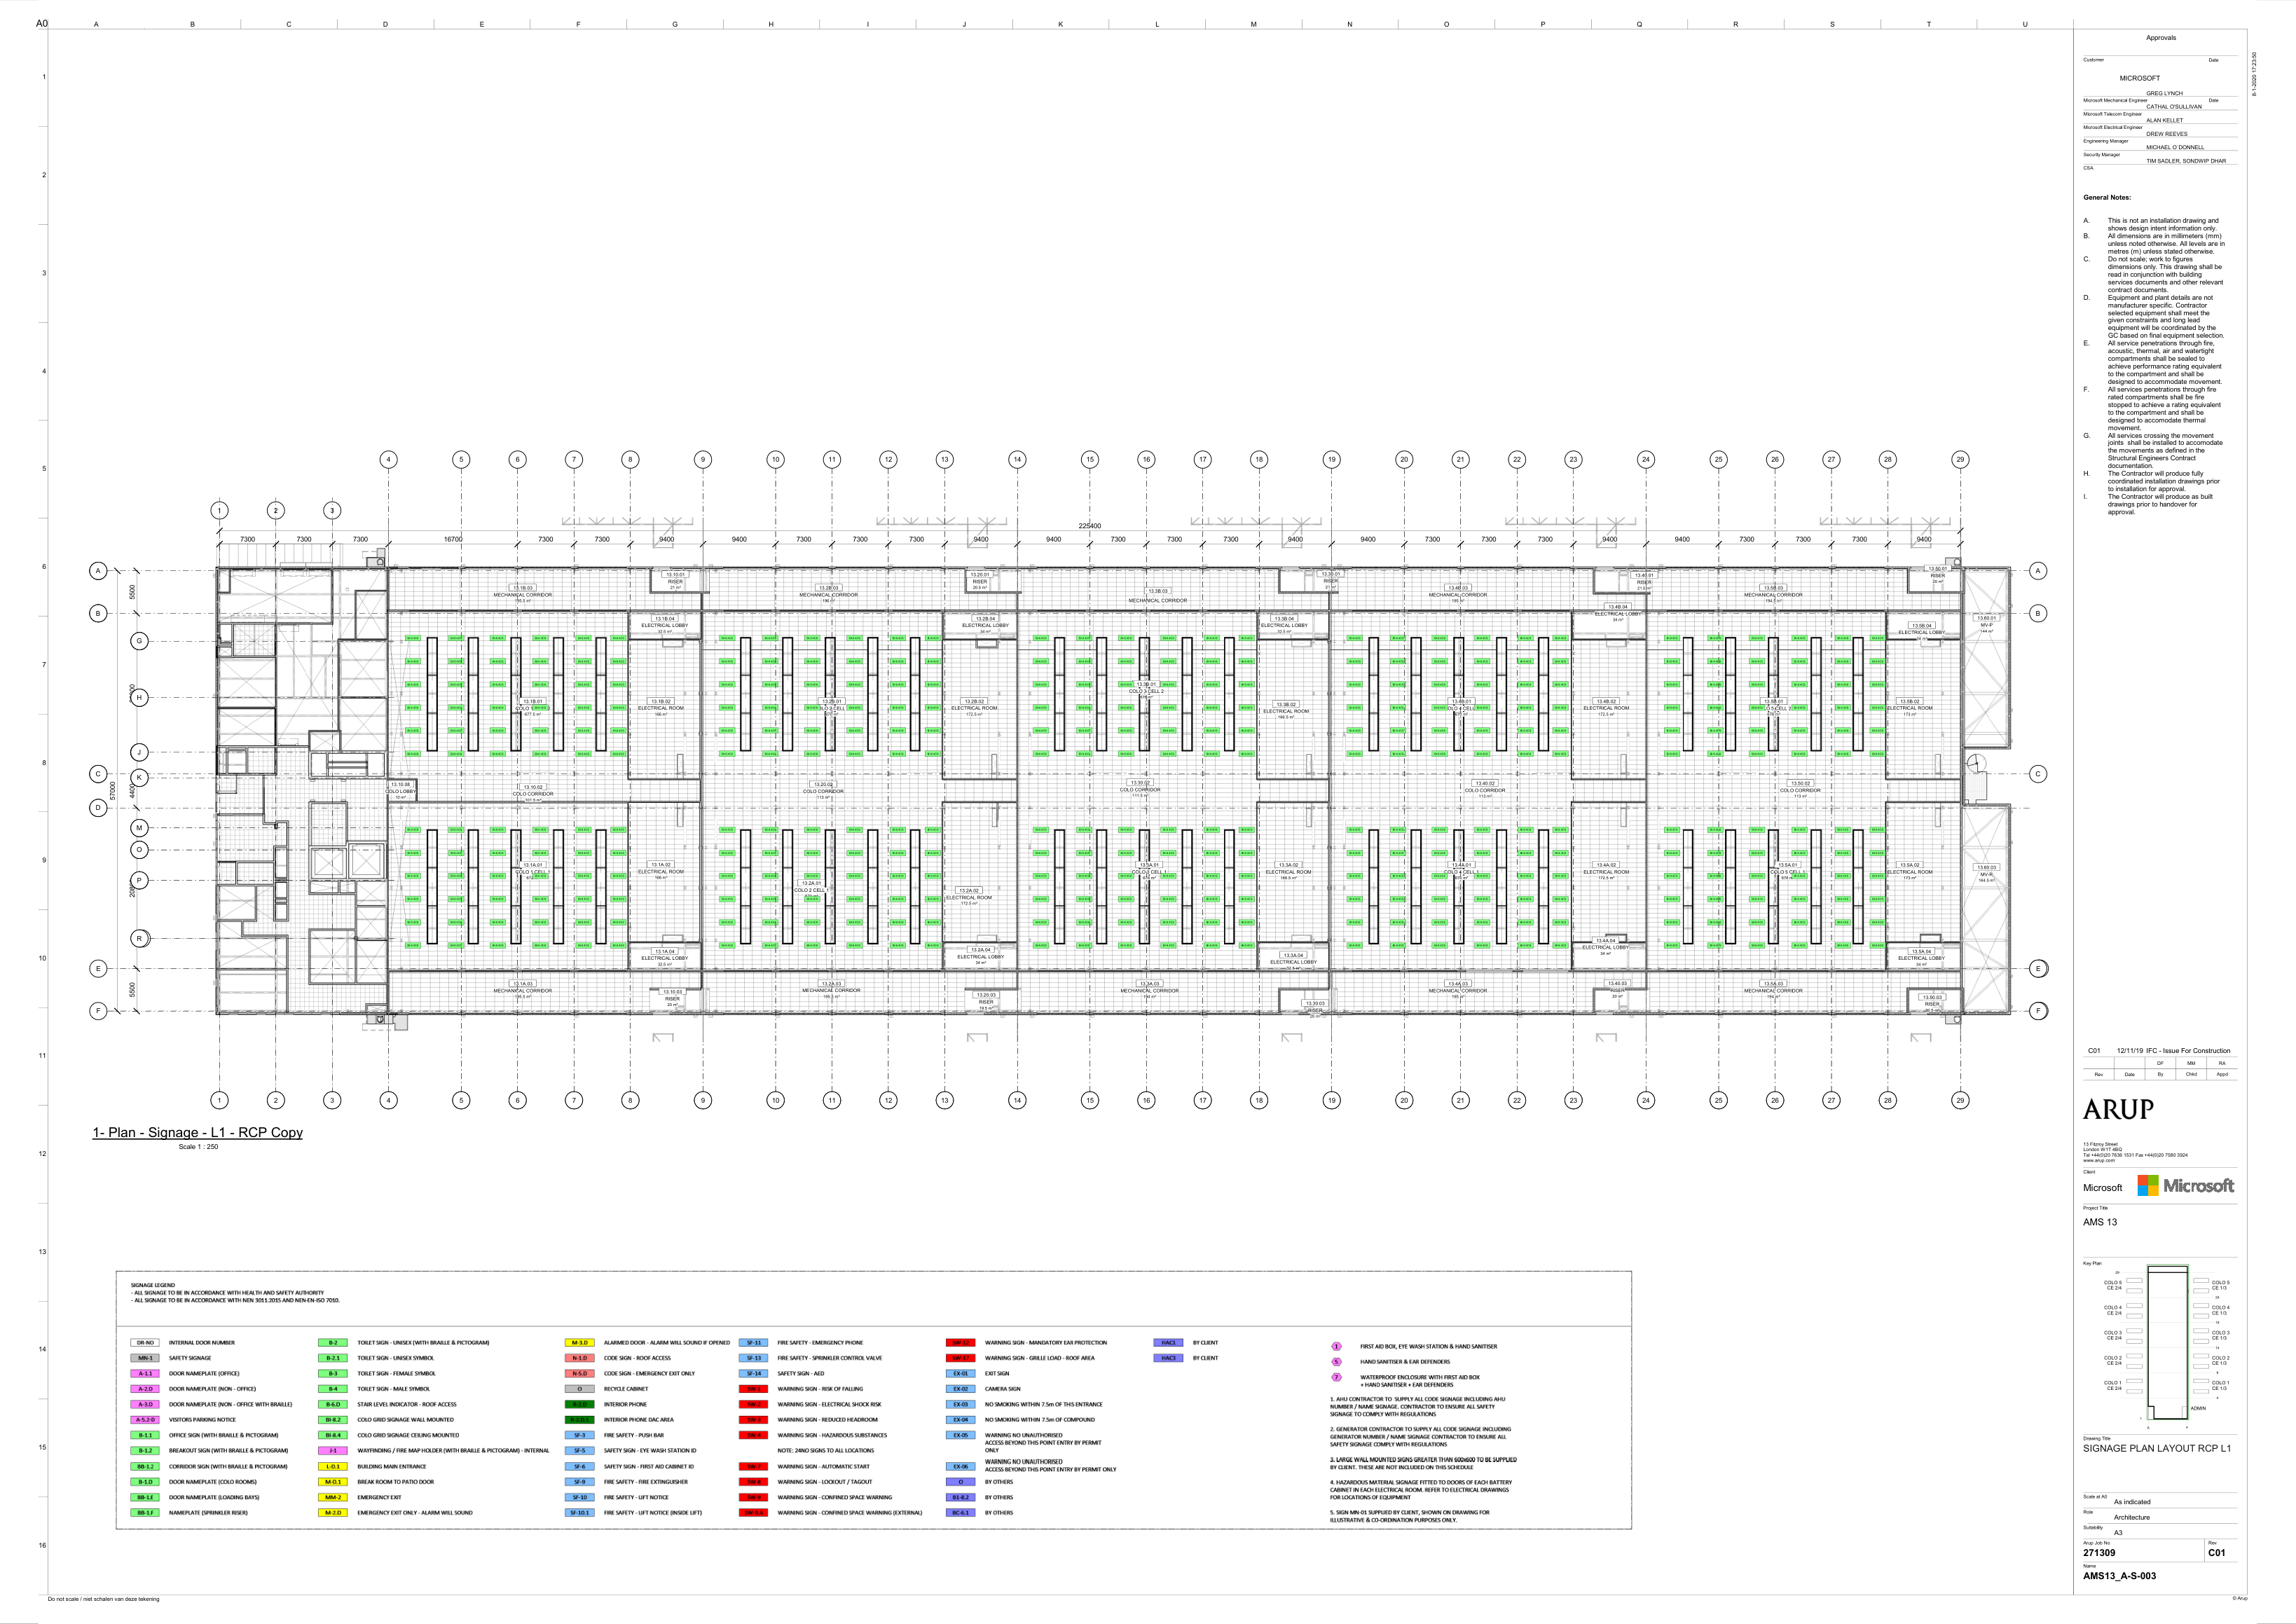Legend: (116, 1271, 1631, 1529)
